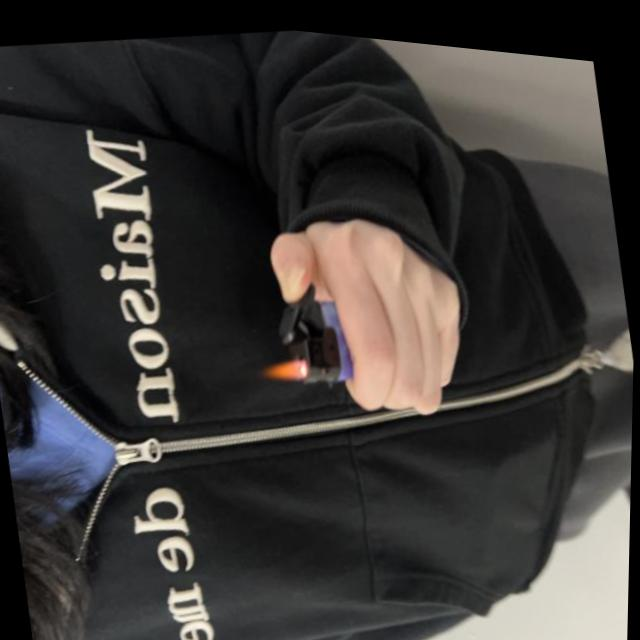Fire: (263, 348, 312, 386)
